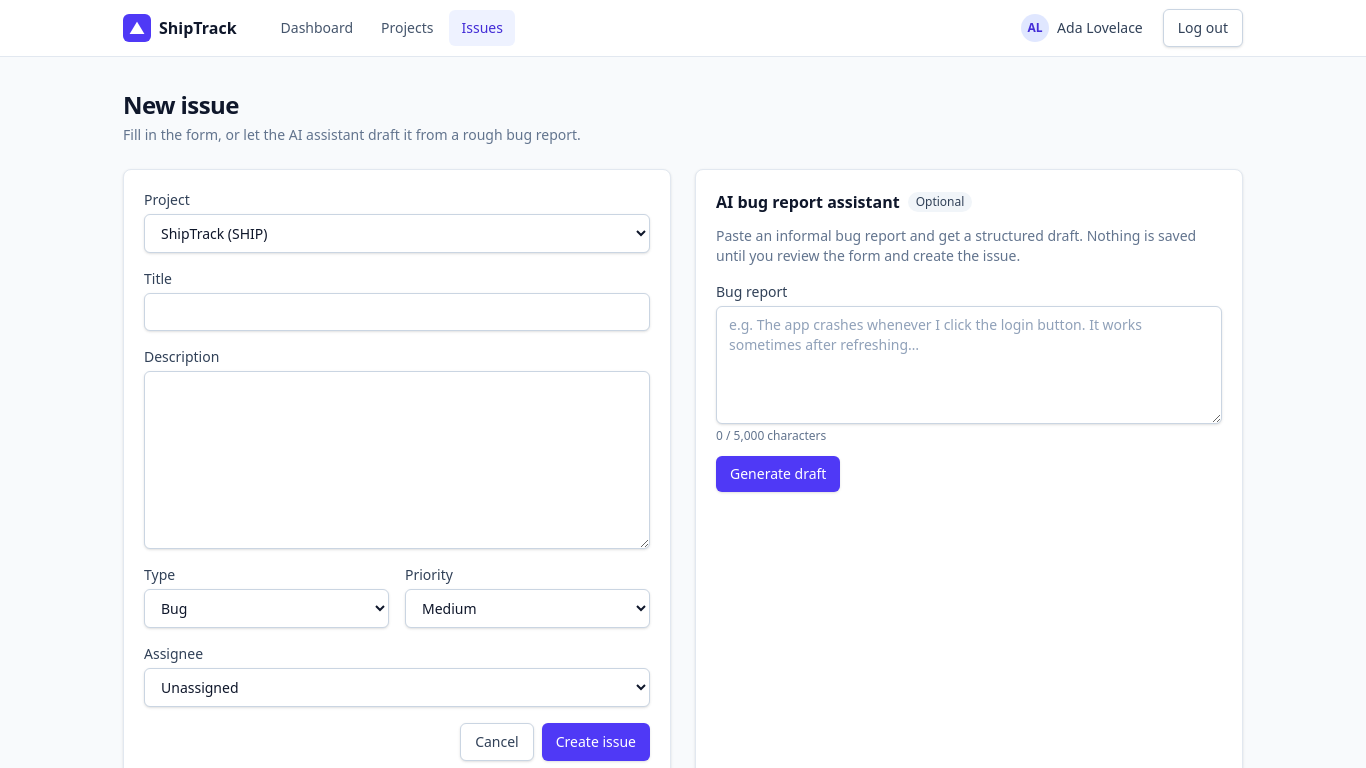
Scenario: create issue › shows server errors without losing the form
Type "Something" into the field labelled "Title" at x=397, y=312, box [144, 293, 650, 331]
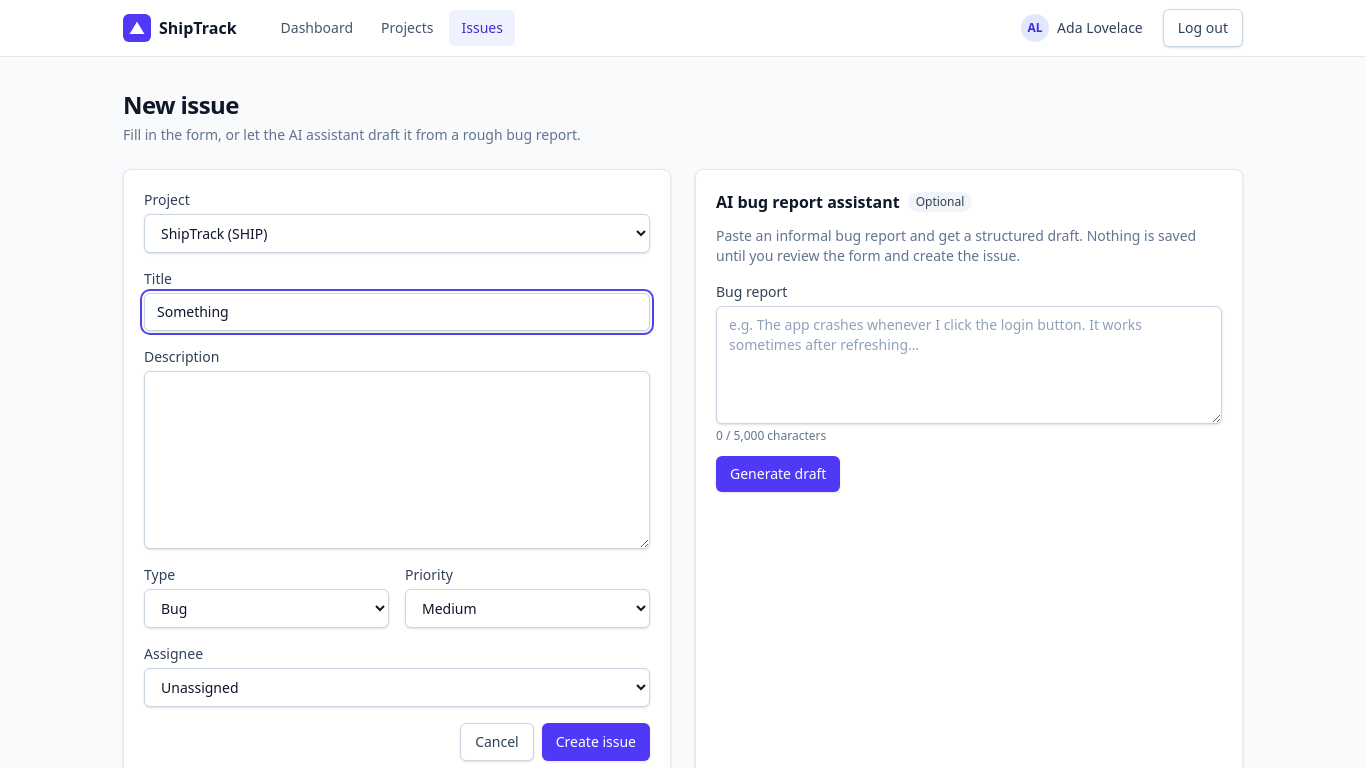
Click the button "Create issue" at x=596, y=742, box [542, 723, 650, 761]
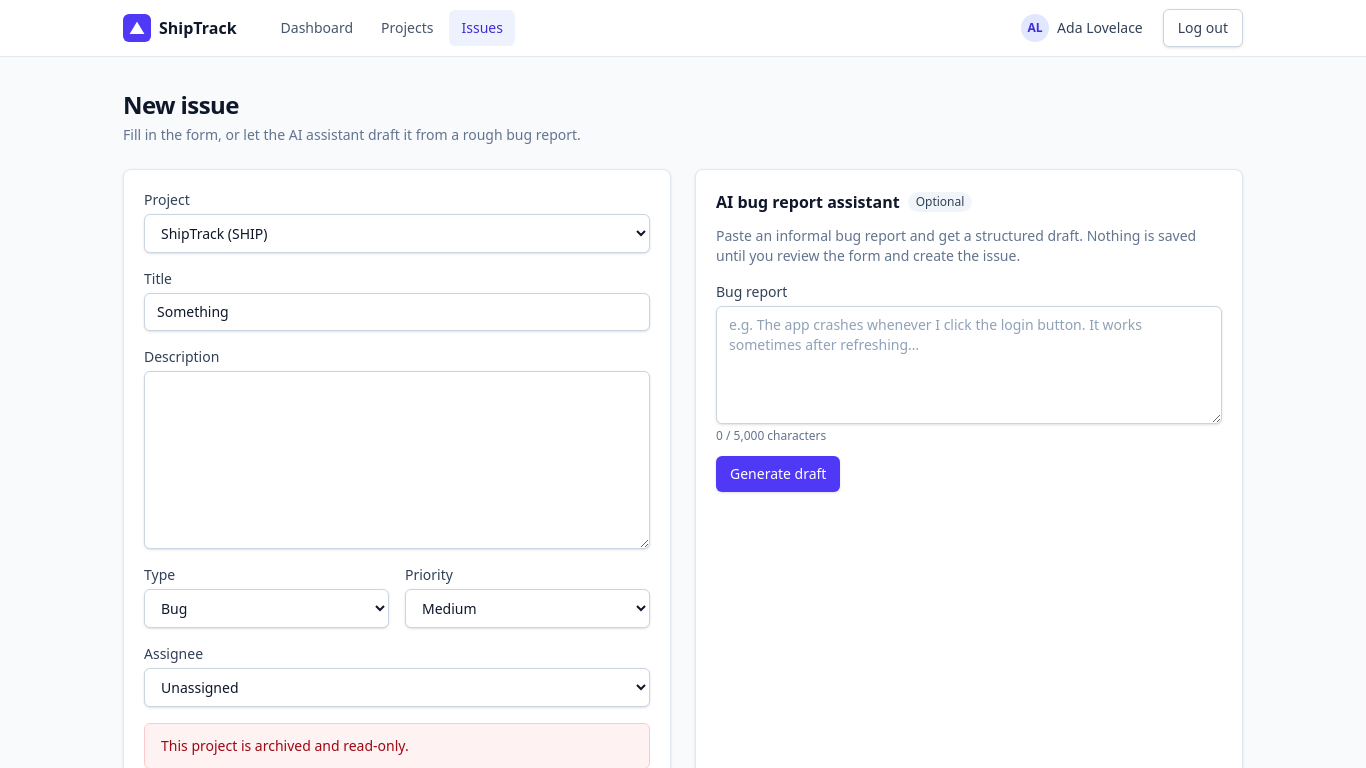
Check: the message shows "archived", box [161, 736, 409, 755]
